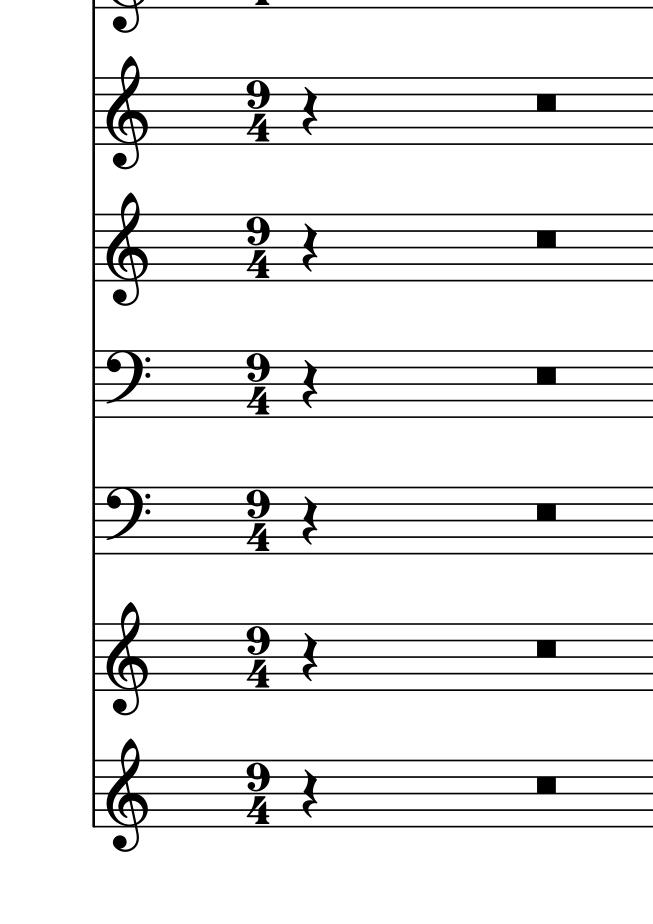4: (244, 519, 273, 554), (244, 656, 273, 691), (244, 383, 273, 417), (244, 793, 273, 826), (244, 111, 273, 143), (244, 247, 272, 280)
9: (241, 215, 273, 250), (243, 351, 275, 384), (243, 489, 275, 522), (242, 626, 274, 659), (244, 77, 273, 111), (244, 761, 273, 792)
Fclef: (103, 348, 151, 419), (103, 485, 151, 556)
Gclef: (105, 55, 151, 172), (105, 601, 150, 719), (104, 736, 149, 854), (105, 191, 150, 308)
Rests4: (299, 493, 321, 547), (299, 766, 321, 820), (299, 357, 321, 410), (299, 630, 321, 683), (299, 85, 321, 137), (299, 221, 321, 273)
Single_barline: (87, 351, 103, 416), (87, 489, 103, 553), (87, 79, 102, 144), (87, 215, 102, 280), (87, 624, 101, 690), (87, 761, 100, 827)
TimeSig: (244, 77, 272, 144), (244, 214, 272, 281), (244, 350, 272, 417), (244, 487, 272, 554), (244, 623, 272, 690), (244, 760, 272, 827)
